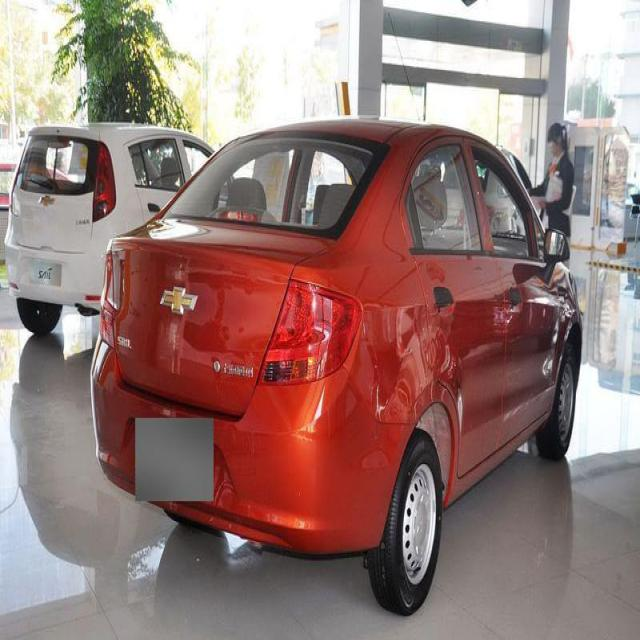back_glass: (160, 135, 378, 237)
back_left_side_light: (99, 240, 119, 334)
back_right_side_light: (255, 275, 365, 390)
door: (404, 137, 508, 457)
front_right_side_door: (461, 132, 556, 456)
front_right_side_mirror: (541, 226, 571, 283)
rear_bumper: (88, 328, 413, 558)
wheel: (368, 427, 444, 616), (535, 340, 579, 461)
